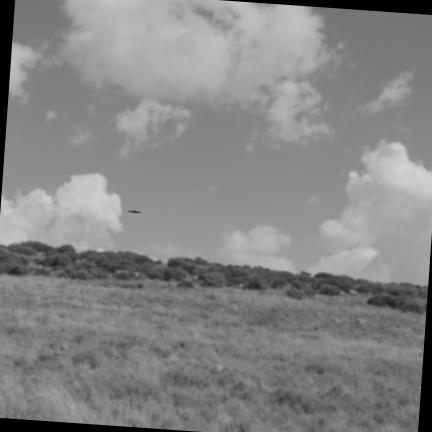Shahed: (128, 210, 140, 213)
